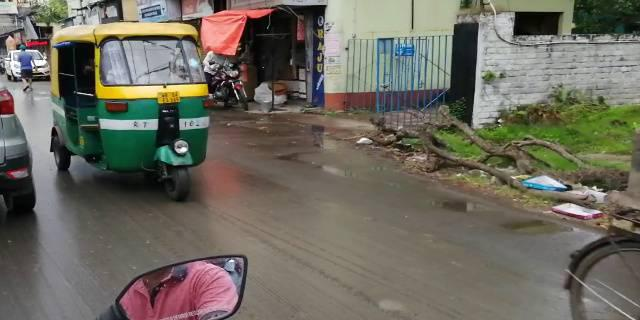Autorickshaw: (56, 20, 220, 189)
